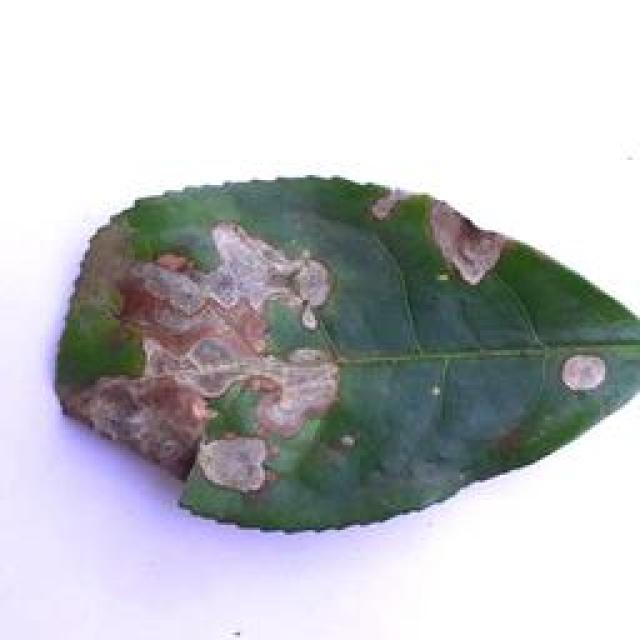Gray Blight: (52, 170, 640, 530)
